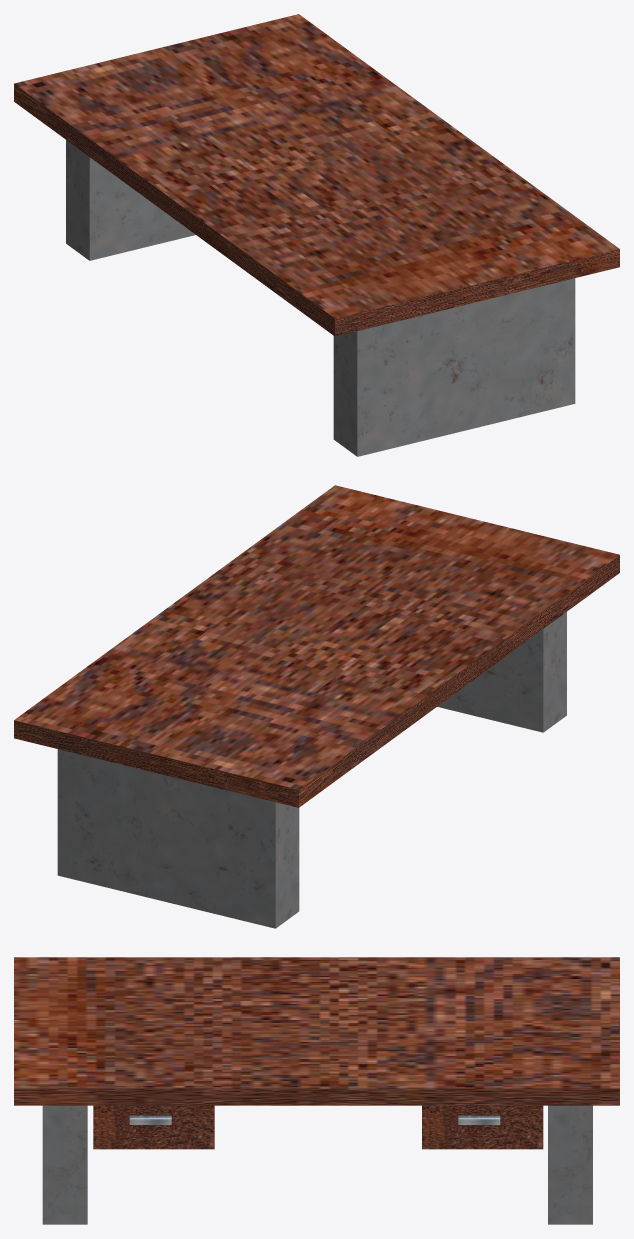
File: basic_wood_desk.gltf
The picture shows the model from 3 angles, top to bottom: view 1: azimuth 30°, elevation 25°; view 2: azimuth 150°, elevation 25°; view 3: azimuth 270°, elevation 25°; orthographic projection. The views are drawn at different scales.
Visible parts, largest first — view 1: Cube-col, L Leg, R Leg; view 2: Cube-col, R Leg, L Leg; view 3: Cube-col, L Leg, R Leg, Inner Drawer.001, Inner Drawer, Drawer, Drawer.001, Handle, Handle.001.
Part boxes in pixels (x1=…): Cube-col: x1=14, y1=14, x2=619, y2=336; L Leg: x1=333, y1=278, x2=575, y2=456; R Leg: x1=66, y1=140, x2=195, y2=260; Cube-col: x1=14, y1=485, x2=619, y2=807; R Leg: x1=57, y1=749, x2=299, y2=928; L Leg: x1=437, y1=612, x2=566, y2=732; Cube-col: x1=14, y1=957, x2=619, y2=1105; L Leg: x1=42, y1=1105, x2=87, y2=1224; R Leg: x1=548, y1=1105, x2=592, y2=1224; Inner Drawer.001: x1=429, y1=1105, x2=531, y2=1140; Inner Drawer: x1=101, y1=1105, x2=202, y2=1140; Drawer: x1=93, y1=1105, x2=214, y2=1149; Drawer.001: x1=422, y1=1105, x2=543, y2=1149; Handle: x1=129, y1=1115, x2=171, y2=1124; Handle.001: x1=458, y1=1115, x2=500, y2=1124.
Size of the model in its own units: 5.12 by 2.73 by 10.
Materials: 3 (3 with a texture image).
